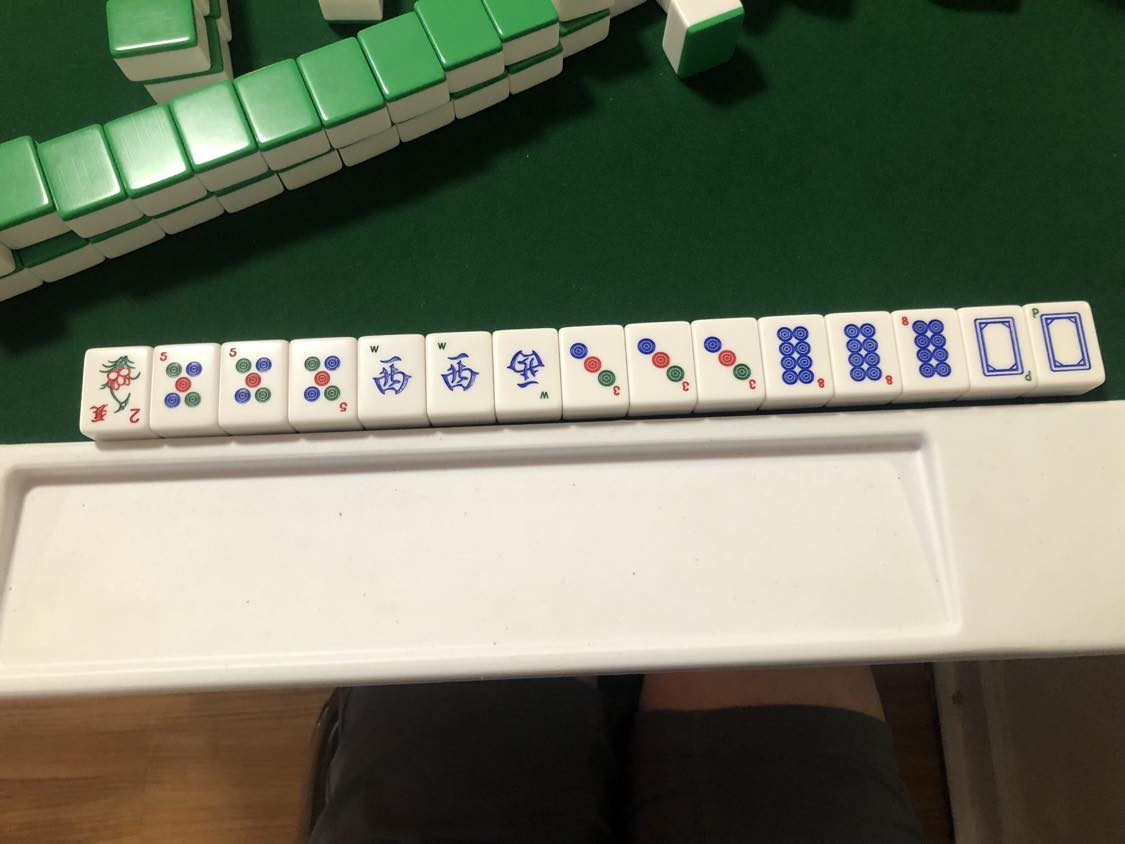circle-eight: (773, 320, 827, 393), (839, 320, 893, 387), (902, 315, 956, 380)
circle-five: (298, 349, 349, 418), (157, 349, 207, 416), (225, 346, 277, 409)
circle-three: (700, 329, 759, 394), (633, 333, 690, 396), (567, 338, 623, 400)
flower-red_two: (82, 349, 144, 427)
honor-blue_dragon: (1038, 305, 1094, 378), (971, 313, 1024, 380)
honor-west_wind: (501, 346, 553, 406), (364, 341, 414, 403), (436, 336, 484, 398)
